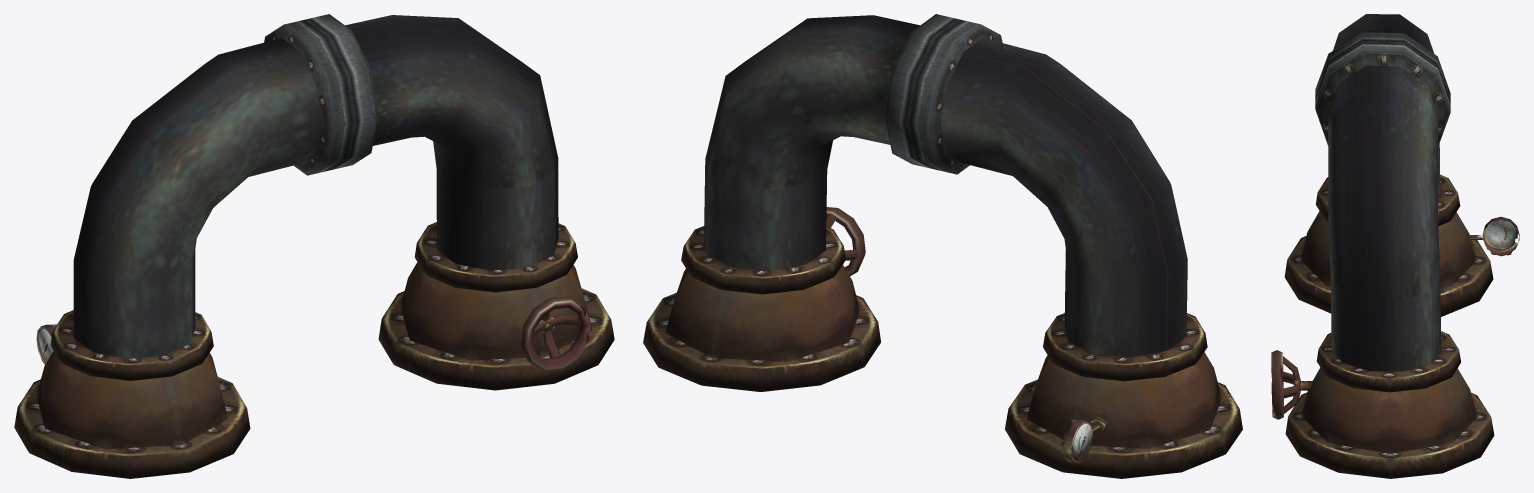
The model's file is S_Build_Muxue008.FBX.
The picture shows the model from 3 angles, left to right: view 1: azimuth 30°, elevation 25°; view 2: azimuth 150°, elevation 25°; view 3: azimuth 270°, elevation 25°; orthographic projection. The views are drawn at different scales.
Parts seen in each view (by area): view 1: S_Build_Muxue008; view 2: S_Build_Muxue008; view 3: S_Build_Muxue008.
Part boxes in pixels (box(x1,y1,x2,y2)): S_Build_Muxue008: box(14, 14, 614, 478); S_Build_Muxue008: box(643, 14, 1242, 478); S_Build_Muxue008: box(1271, 14, 1519, 478).
Bounding box in the file's own units: 932 × 402 × 562.
